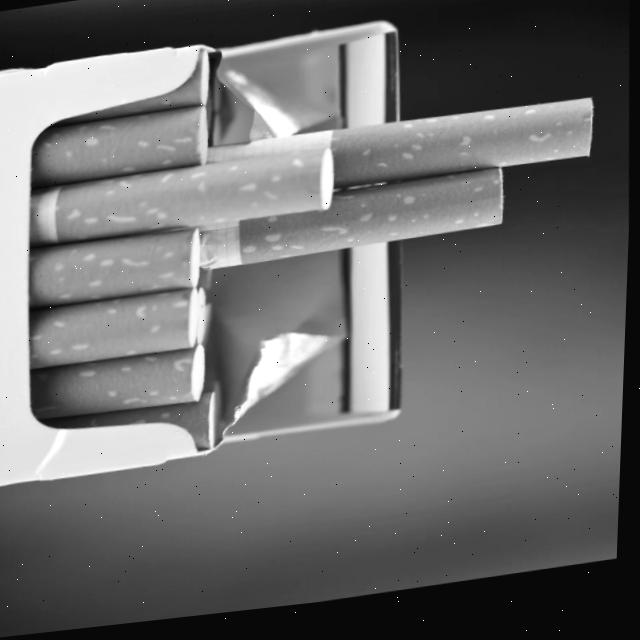cigarette: (206, 97, 593, 189), (195, 168, 502, 272), (28, 150, 333, 250), (31, 106, 208, 188), (26, 288, 198, 369), (26, 229, 200, 308), (26, 345, 203, 418)
